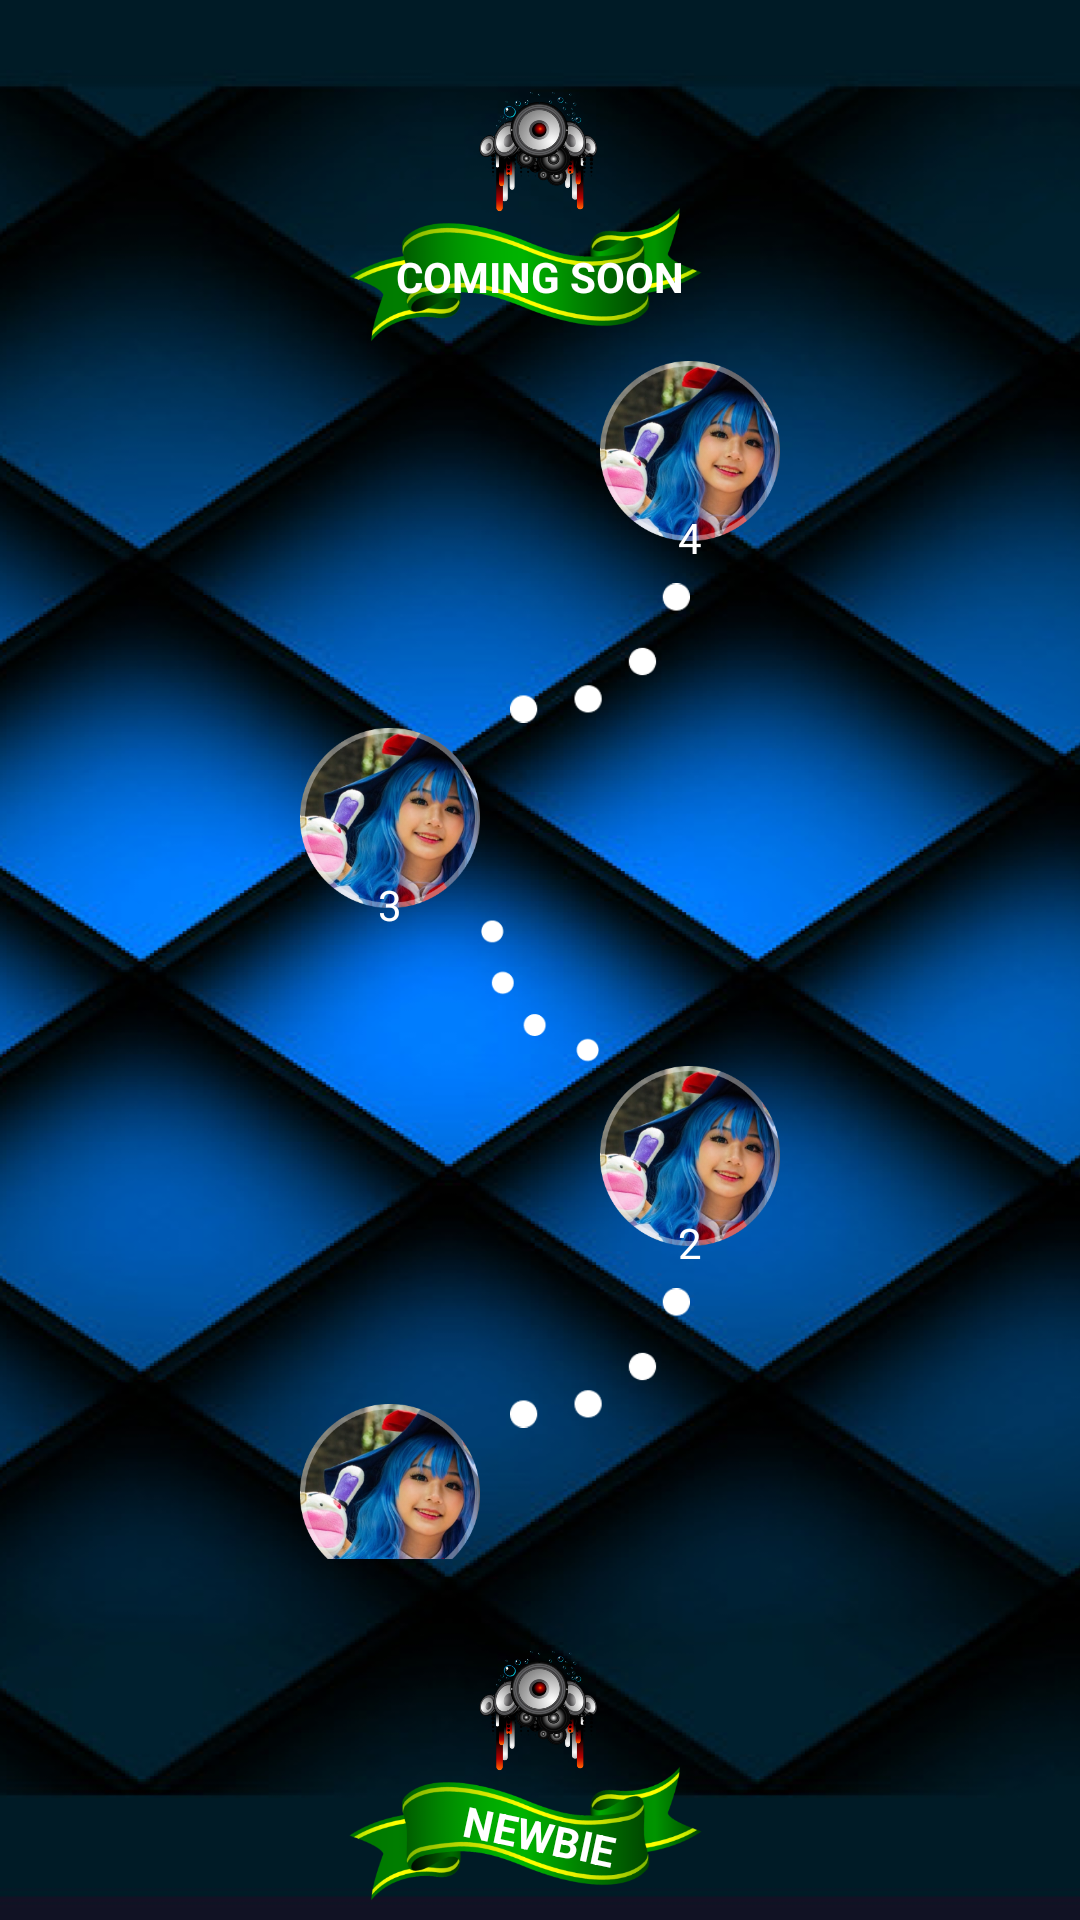

Icons on this 1080 x 1920 Android screen, each with the point to tap as point (x, y):
dot right: point (600, 653), point (600, 1358)
